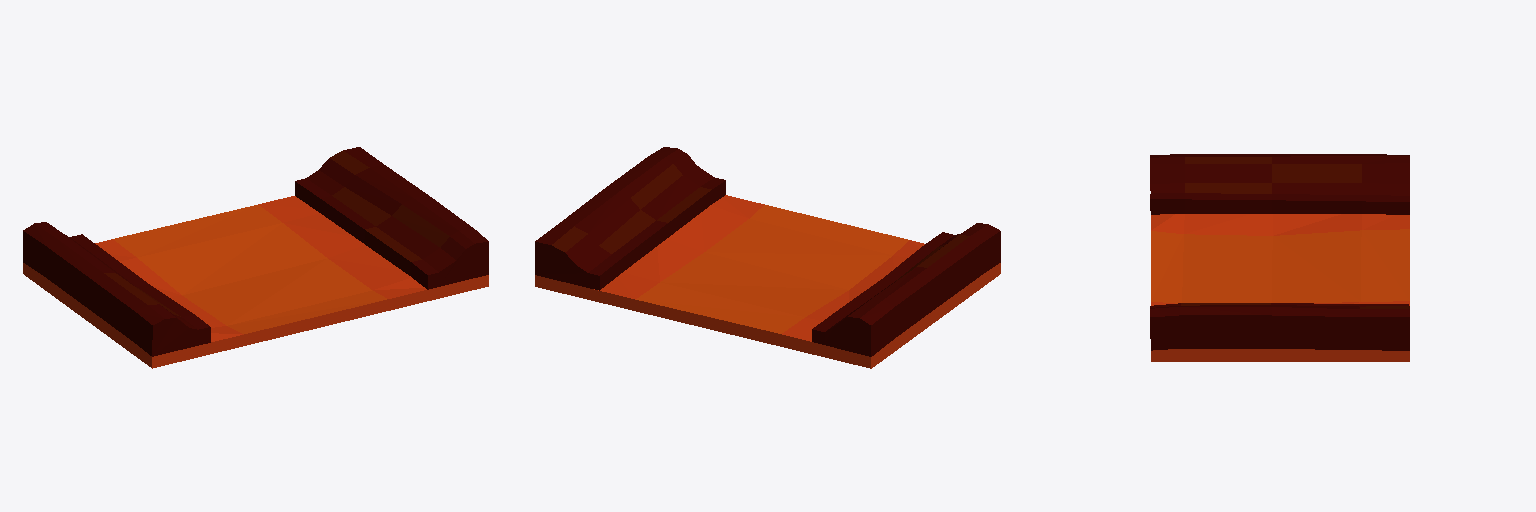
Rendered from Terreno.obj.
The picture shows the model from 3 angles: view 1: azimuth 30°, elevation 25°; view 2: azimuth 150°, elevation 25°; view 3: azimuth 270°, elevation 25°; orthographic projection.
Visible parts, largest first — view 1: Terreno; view 2: Terreno; view 3: Terreno.
Boxes of the visible parts, x1,y1,x2,y2 form: Terreno: [23, 147, 488, 368]; Terreno: [535, 147, 1000, 368]; Terreno: [1150, 154, 1409, 361].
Size of the model in its own units: 30 by 4.12 by 20.05.